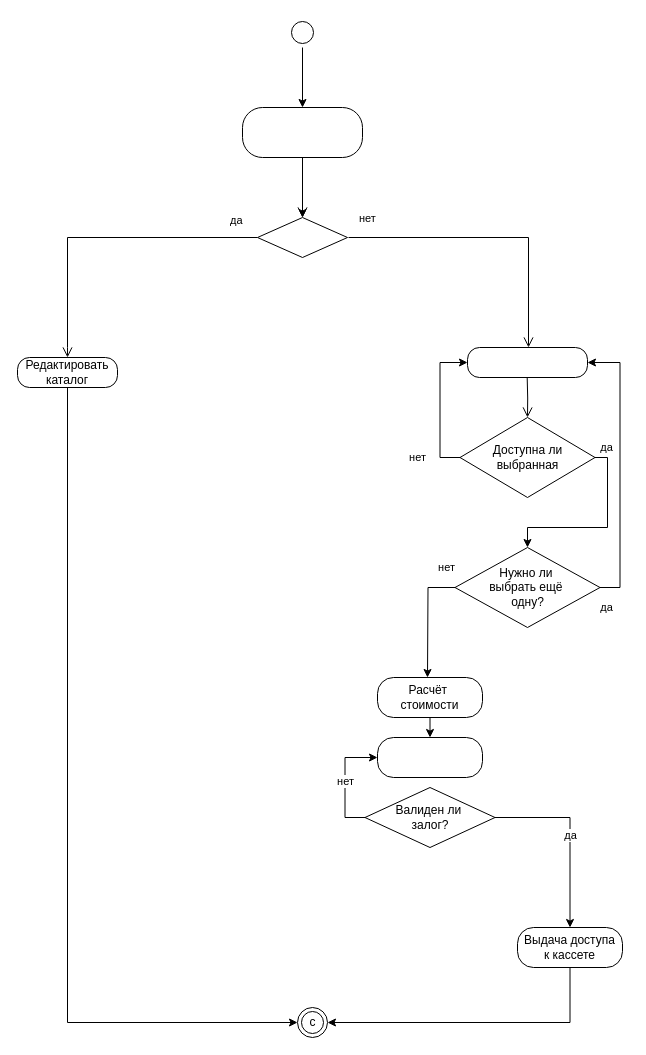
The diagram is 646 pixels wide and 1055 high, and some of its shapes have lost their labels. The shapes that lost their labels are listed below. From the top down, each one's centre as x and y in pixels, then its label:
At point (302, 132): "Проверка на администратора".
At point (527, 362): "Выбор кассеты".
At point (429, 757): "Внесение залога".
